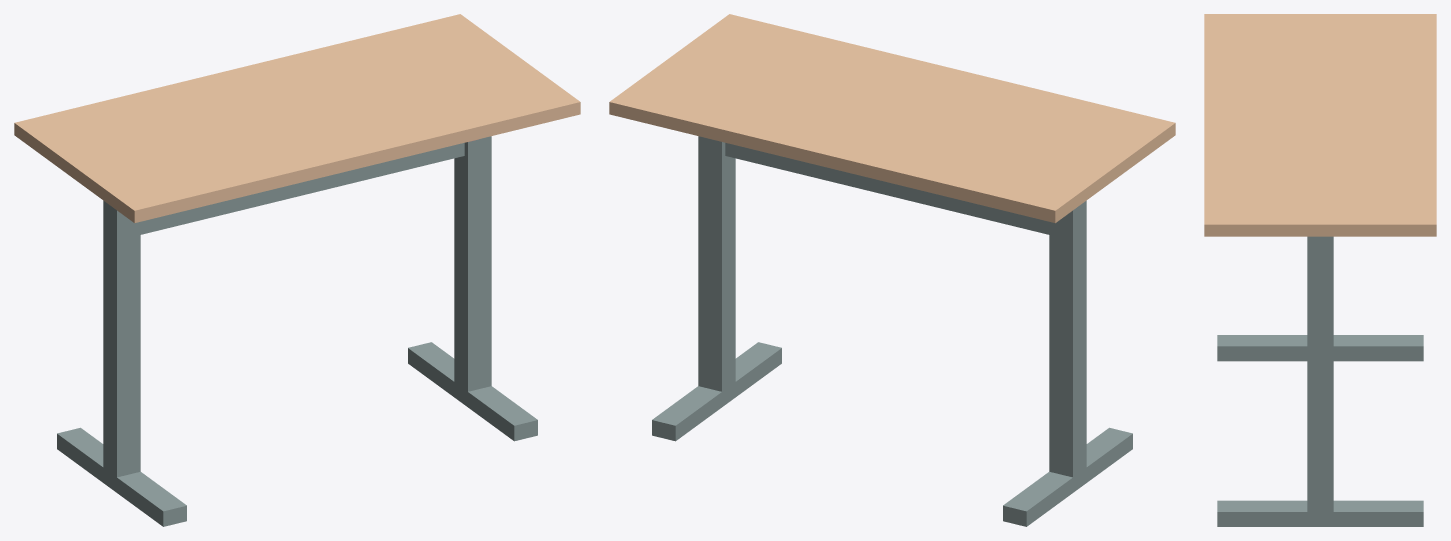
The model's file is deskStanding.glb.
3 views of the same model, side by side, from view 1: azimuth 30°, elevation 25°; view 2: azimuth 150°, elevation 25°; view 3: azimuth 270°, elevation 25° (orthographic). The views are drawn at different scales.
Parts seen in each view (by area): view 1: deskStanding; view 2: deskStanding; view 3: deskStanding.
Part boxes in pixels (<box>): deskStanding: <box>14,14,580,526</box>; deskStanding: <box>609,14,1175,526</box>; deskStanding: <box>1204,14,1436,526</box>.
Bounding box in the file's own units: 0.75 × 0.53 × 0.35.
